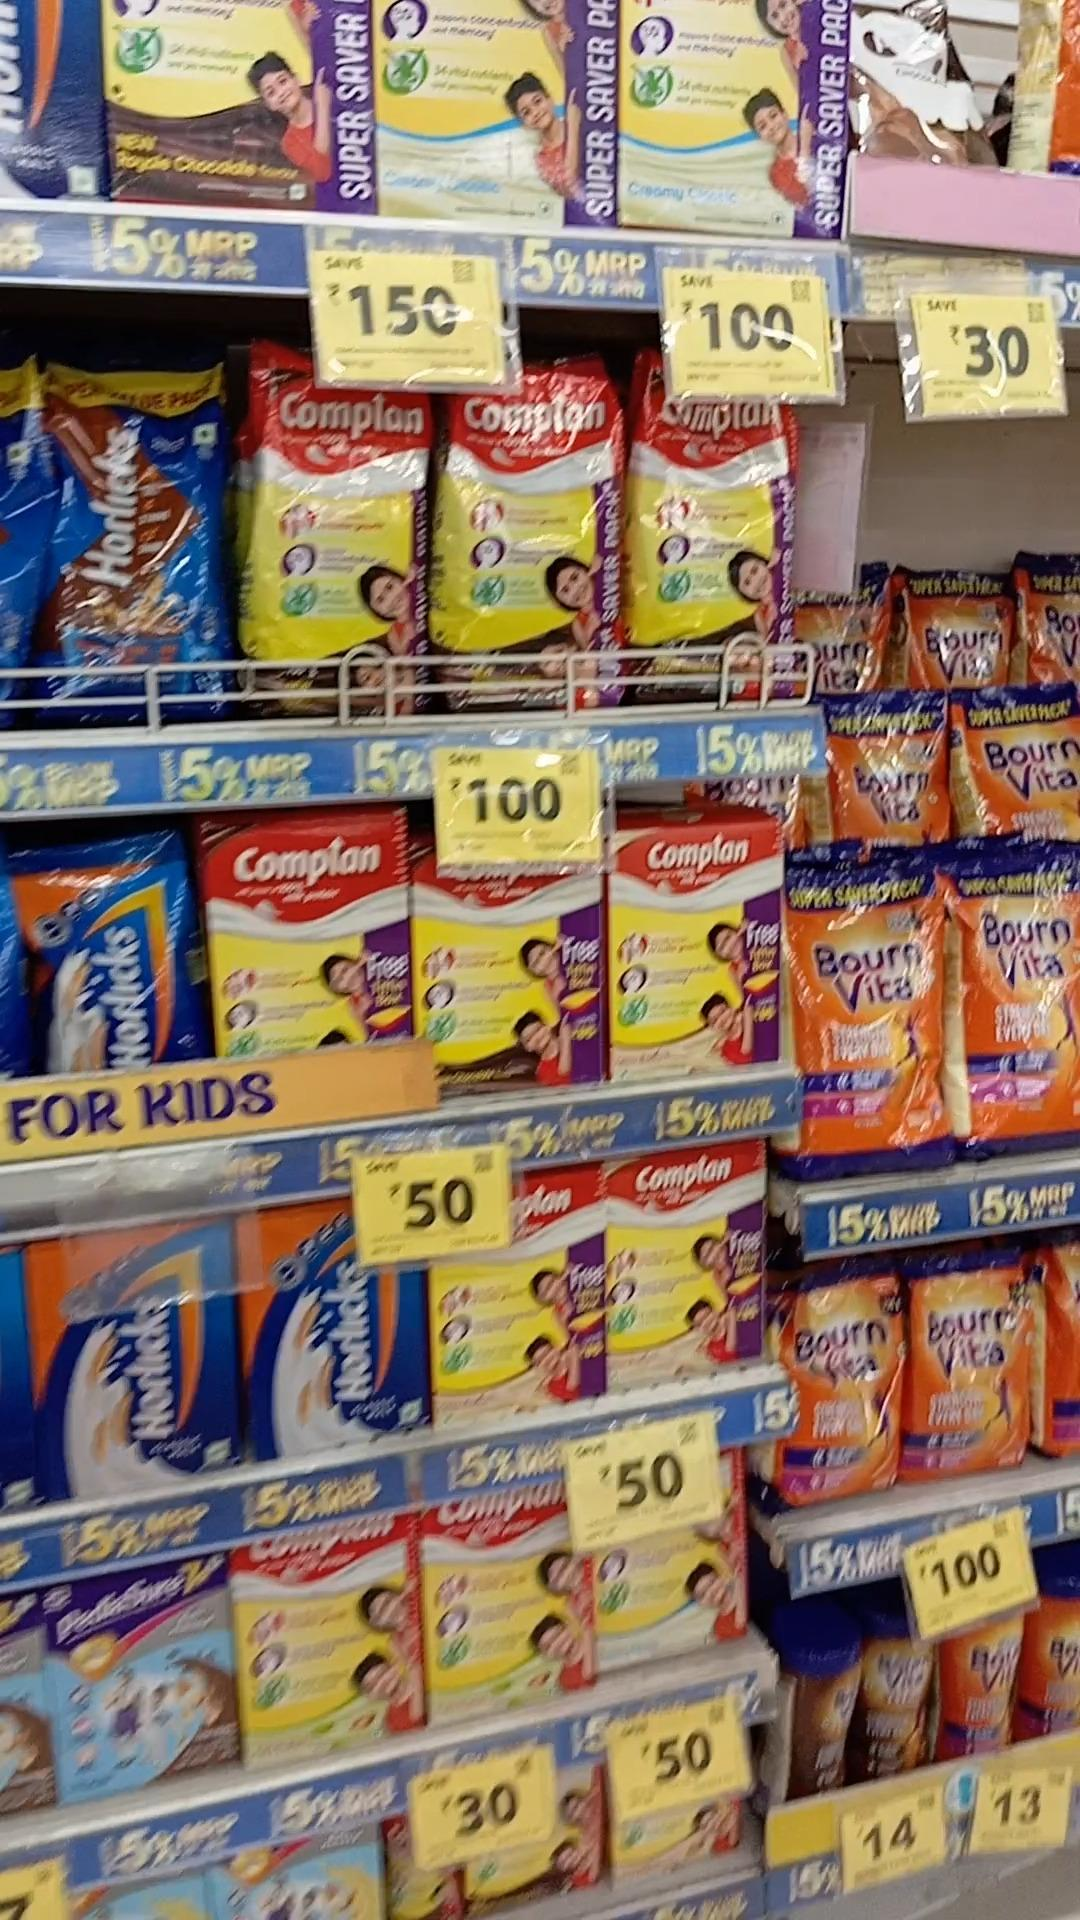BOURN_VITA_1_KG_POUCH: (800, 880, 952, 1184), (953, 855, 1080, 1153), (824, 698, 945, 851), (965, 688, 1080, 849)
BOURN_VITA_500_G_JAR: (957, 1610, 1029, 1766)
BOURN_VITA_750_G_POUCH: (911, 1279, 1026, 1481), (791, 1283, 890, 1497)
BOURN_VITA_FIVE_STAR_MAGIC_500_G_JAR: (868, 1630, 934, 1775)
COMPLAN_CHOCOLATE_1_KG_PACK: (124, 0, 373, 215)
COMPLAN_CHOCOLATE_500_GMS_PACK: (200, 818, 389, 1047), (418, 872, 599, 1087)
COMPLAN_CREAMY_CLASSIC_500_G_PACK: (593, 1535, 732, 1667)
COMPLAN_KESAR_BADAM_500_GMS_PACK: (427, 1178, 599, 1425), (612, 829, 773, 1085), (608, 1153, 761, 1393)
COMPLAN_PISTA_BADAM_500_GMS_PACK: (244, 1520, 407, 1751), (422, 1503, 583, 1708)
COMPLAN_RC_POUCH_700_GMS_12: (252, 369, 431, 720), (443, 388, 612, 713), (628, 378, 779, 684)
HORLICK_CHOCOLATE_750_G_POUCH: (46, 371, 227, 731)
HORLICK_CLASSIC_MALT_500_G_PACK: (40, 1224, 223, 1498), (237, 1201, 423, 1458)
HORLICK_CLASSIC_MALT_750_G_POUCH: (21, 849, 177, 1065)
PEDIASURE_7_PLUS_CHOCOLATE_400_G_PACK: (54, 1560, 232, 1797)
